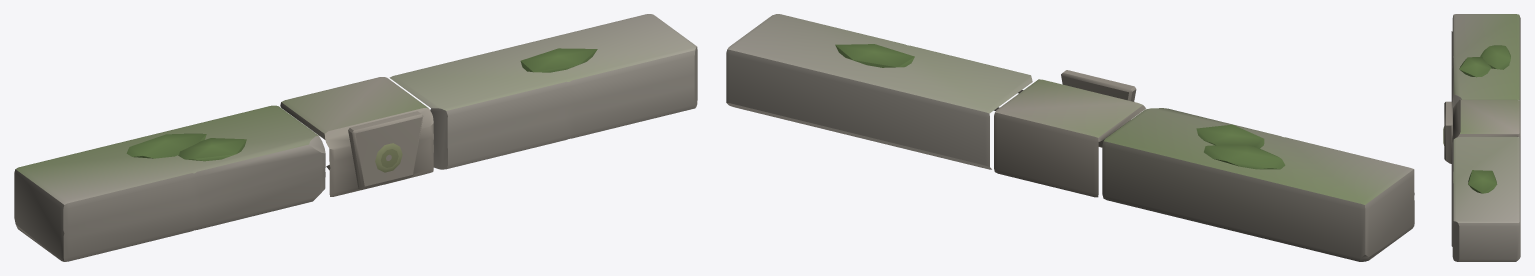
File: ruins-lintel-v1.glb
3 renders of one model, left to right at view 1: azimuth 30°, elevation 25°; view 2: azimuth 150°, elevation 25°; view 3: azimuth 270°, elevation 25°, orthographic. The views are drawn at different scales.
Visible parts, largest first — view 1: 0_ruins_lintel; view 2: 0_ruins_lintel; view 3: 0_ruins_lintel.
Part boxes in pixels (left/top/right/bottom): 0_ruins_lintel: left=14, top=14, right=697, bottom=261; 0_ruins_lintel: left=726, top=14, right=1414, bottom=261; 0_ruins_lintel: left=1443, top=14, right=1520, bottom=261.
Bounding box in the file's own units: 4.62 × 0.47 × 0.72.
